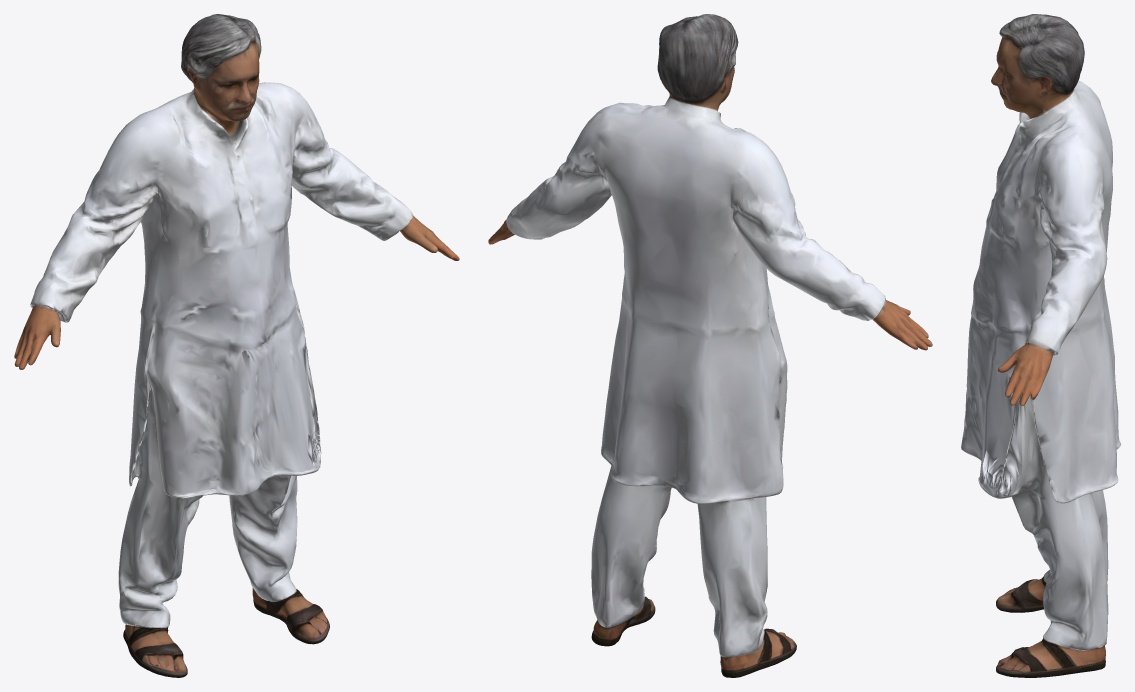
File: npc-elderkurta.glb
3 renders of one model, left to right at view 1: azimuth 30°, elevation 25°; view 2: azimuth 150°, elevation 25°; view 3: azimuth 270°, elevation 25°, orthographic.
Parts seen in each view (by area): view 1: SK_NPC_ElderKurta; view 2: SK_NPC_ElderKurta; view 3: SK_NPC_ElderKurta.
Part boxes in pixels (x1,y1,x2,y2): SK_NPC_ElderKurta: (14, 14, 459, 677); SK_NPC_ElderKurta: (488, 14, 932, 677); SK_NPC_ElderKurta: (961, 14, 1120, 677).
Size of the model in its own units: 138 by 188 by 43.88.
1 material, 1 textured.
